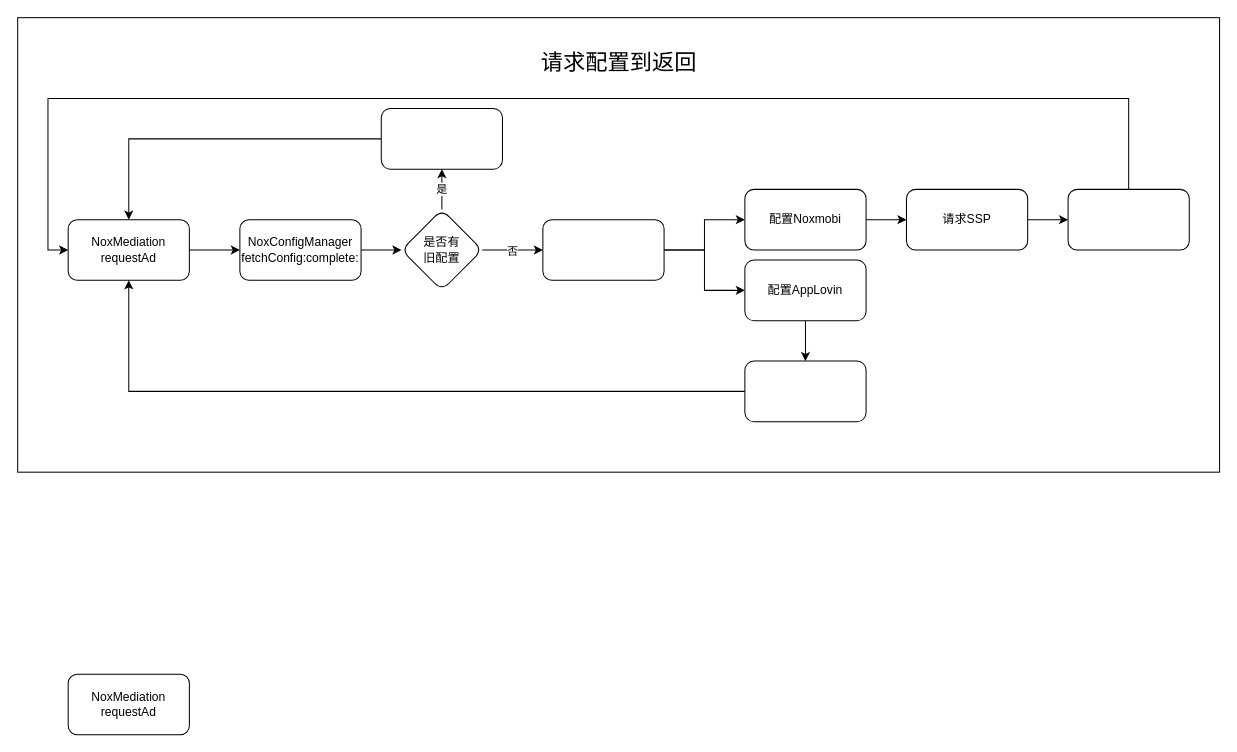
This 1237x752 diagram has some shape labels left out. Here are the shapes that lost their labels. From the top down, the centre of each, then its label:
pixel 441 138: 返回旧配置
pixel 1128 219: 解析数据 组装Config并返回
pixel 603 249: 异步获取RC配置
pixel 805 391: 组装Config并返回
